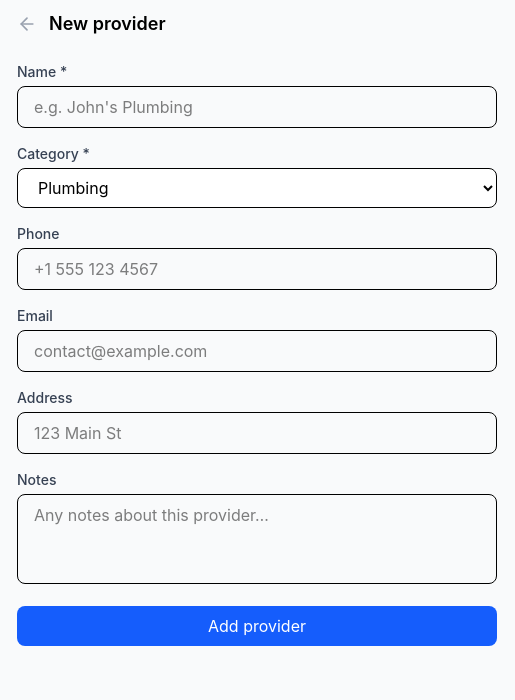
Scenario: ProviderFormPage — create › shows validation error when name is blank
What coordinates should you click on to do the following:
click the button "Add provider"
I would click on:
 (257, 626)
Its box is [17,606,497,646].
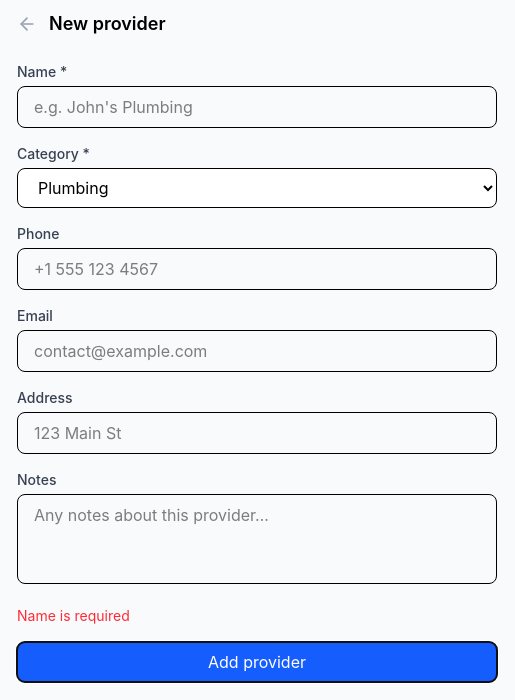
Expected: the text "Name is required" is shown, [17,607,130,624]
